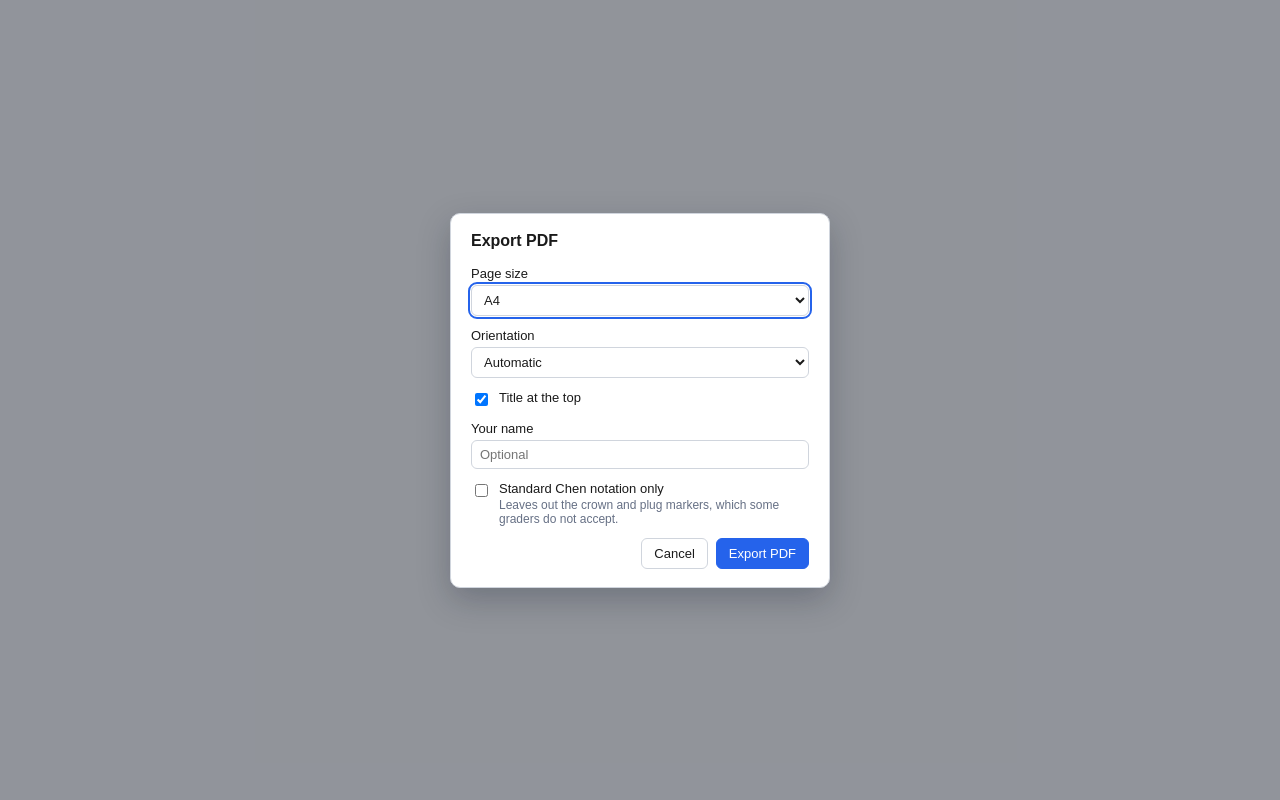
Scenario: ExportDialog › says so when the PDF cannot be made, and stays open
Click the button "Export PDF" at (762, 553), box [716,538,809,568]
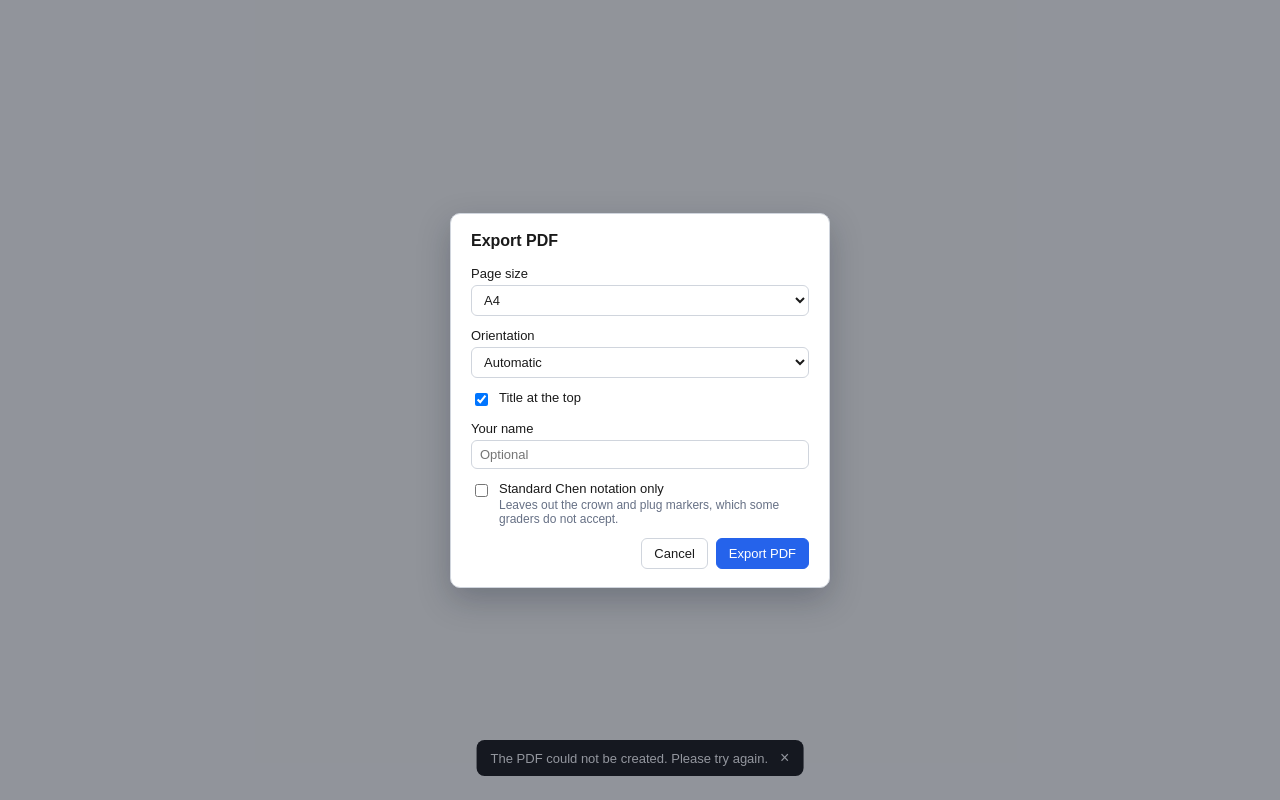
Result: the message shows "could not be created" at [491,750,768,766]
